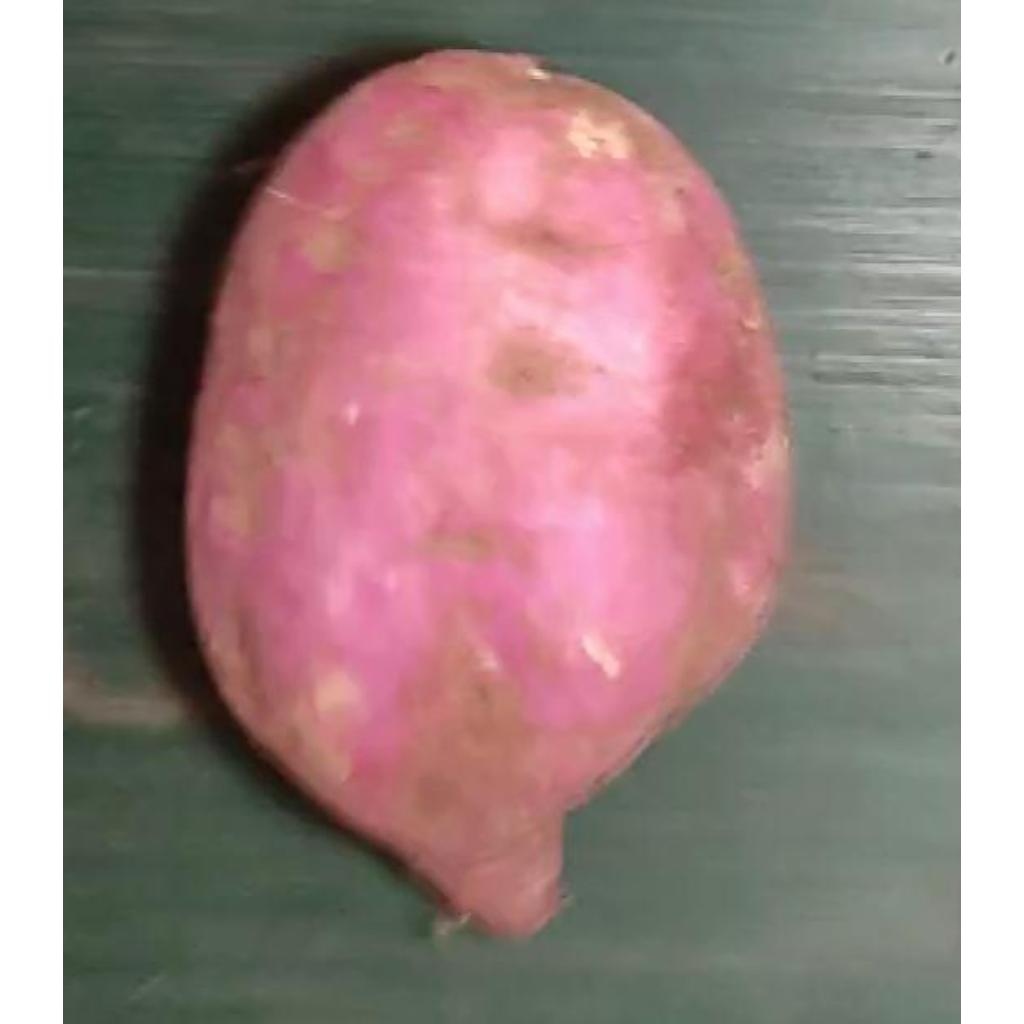Sweet Potato: (183, 48, 794, 945)
